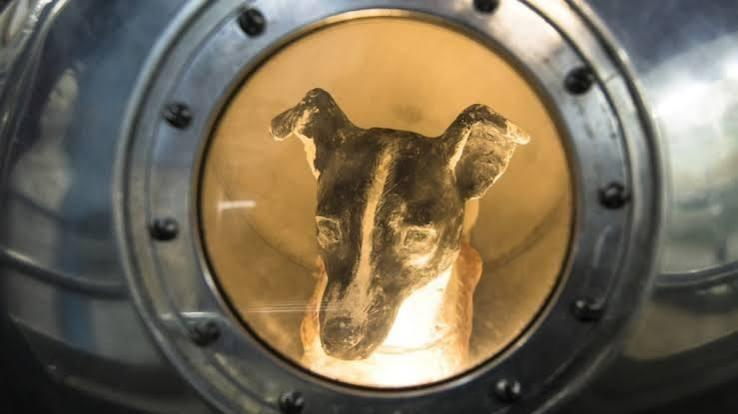adult_dog: (271, 89, 531, 388)
